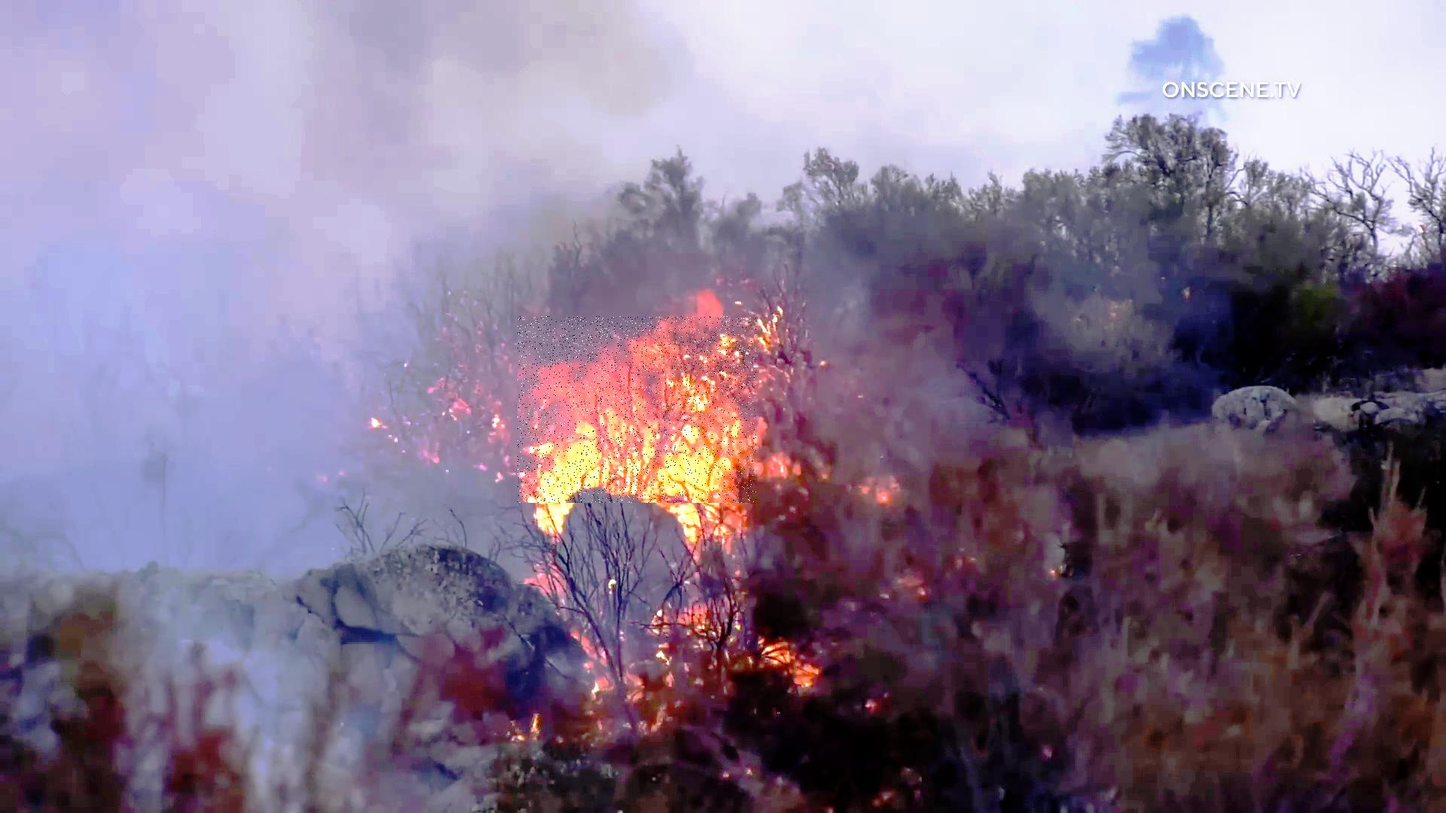fire: (518, 317, 757, 503)
